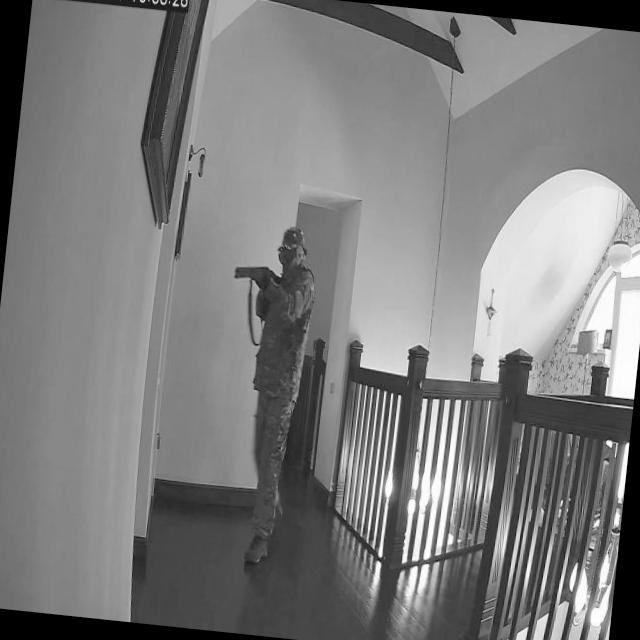gun: (231, 254, 284, 287)
person with a gun: (202, 217, 321, 572)
